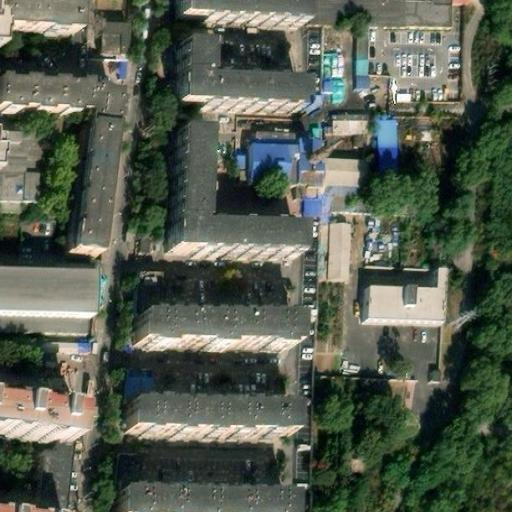building: (167, 129, 297, 253), (176, 42, 307, 111), (0, 0, 130, 56), (249, 143, 367, 199), (117, 408, 288, 443), (125, 319, 286, 355), (365, 267, 444, 322), (318, 371, 418, 410), (0, 123, 47, 202), (318, 0, 452, 27), (106, 491, 277, 512), (33, 437, 75, 512), (180, 0, 309, 22), (0, 312, 91, 336), (318, 222, 353, 280), (135, 273, 166, 318), (379, 120, 400, 175), (121, 370, 154, 403), (352, 30, 369, 89), (303, 198, 331, 223), (333, 116, 368, 135), (252, 131, 301, 144), (452, 0, 470, 3)
